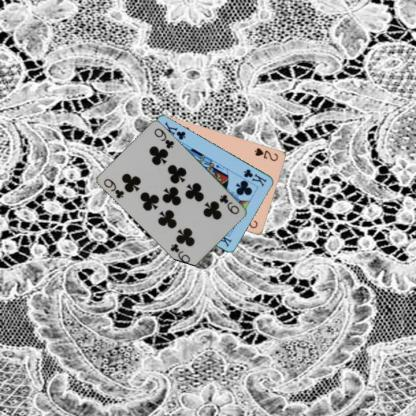2s: (252, 145, 280, 162)
9c: (102, 176, 125, 201), (217, 192, 241, 215)
Kc: (242, 166, 268, 188)
